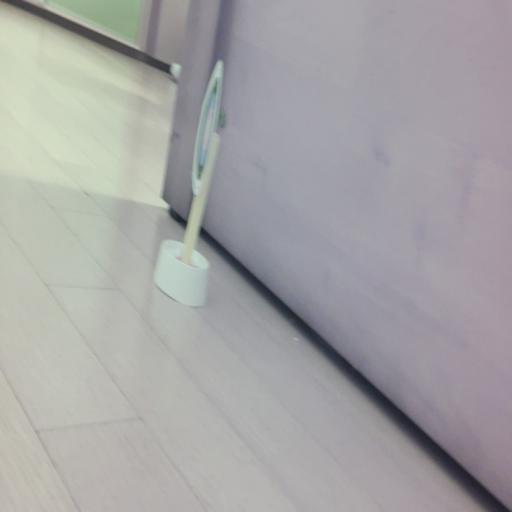target: (192, 60, 223, 194)
